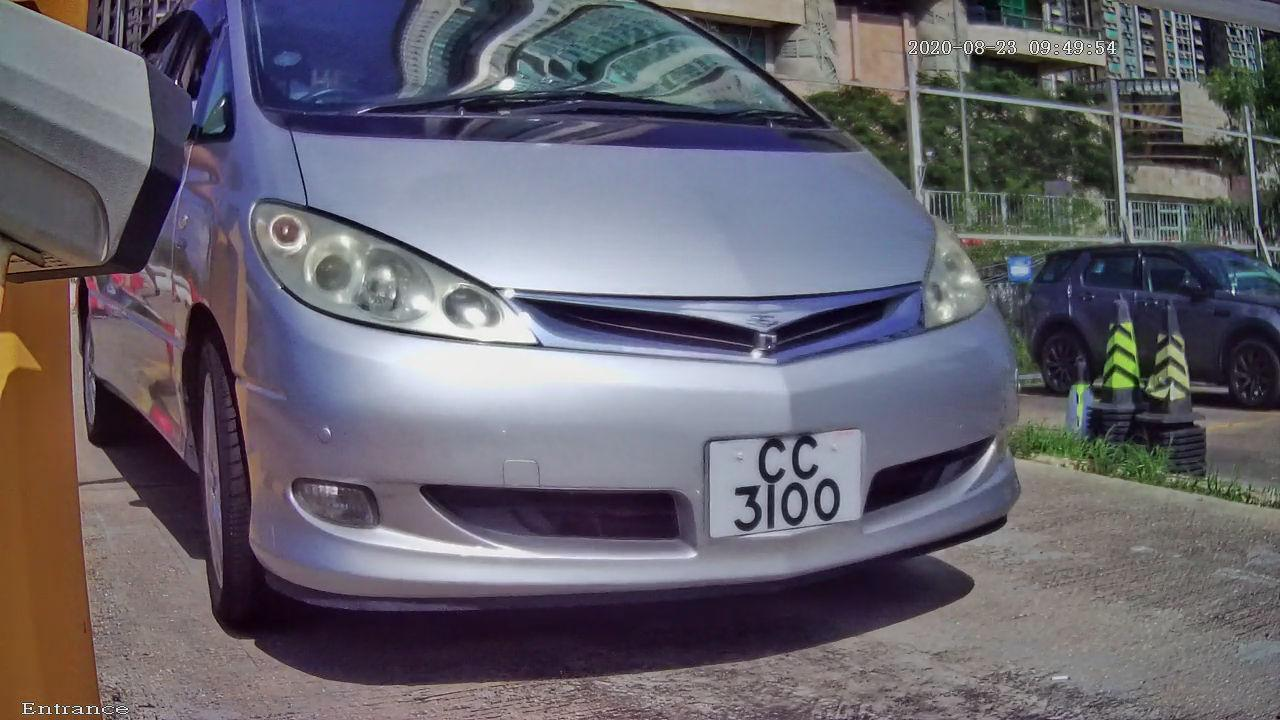License Plate: (686, 415, 886, 553)
